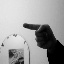g: (21, 23, 57, 50)
